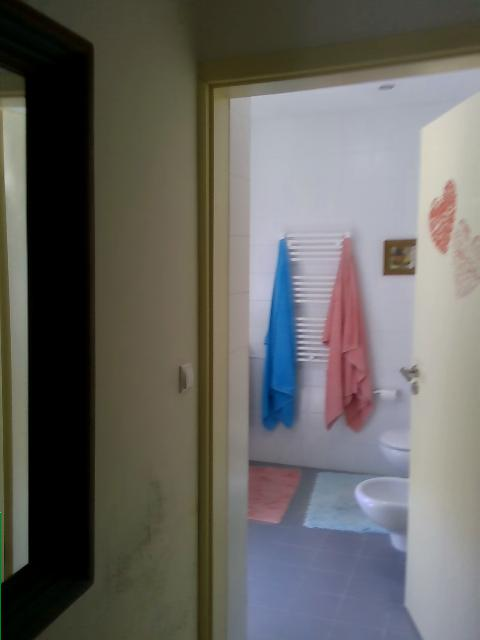open_door: (198, 41, 479, 639)
